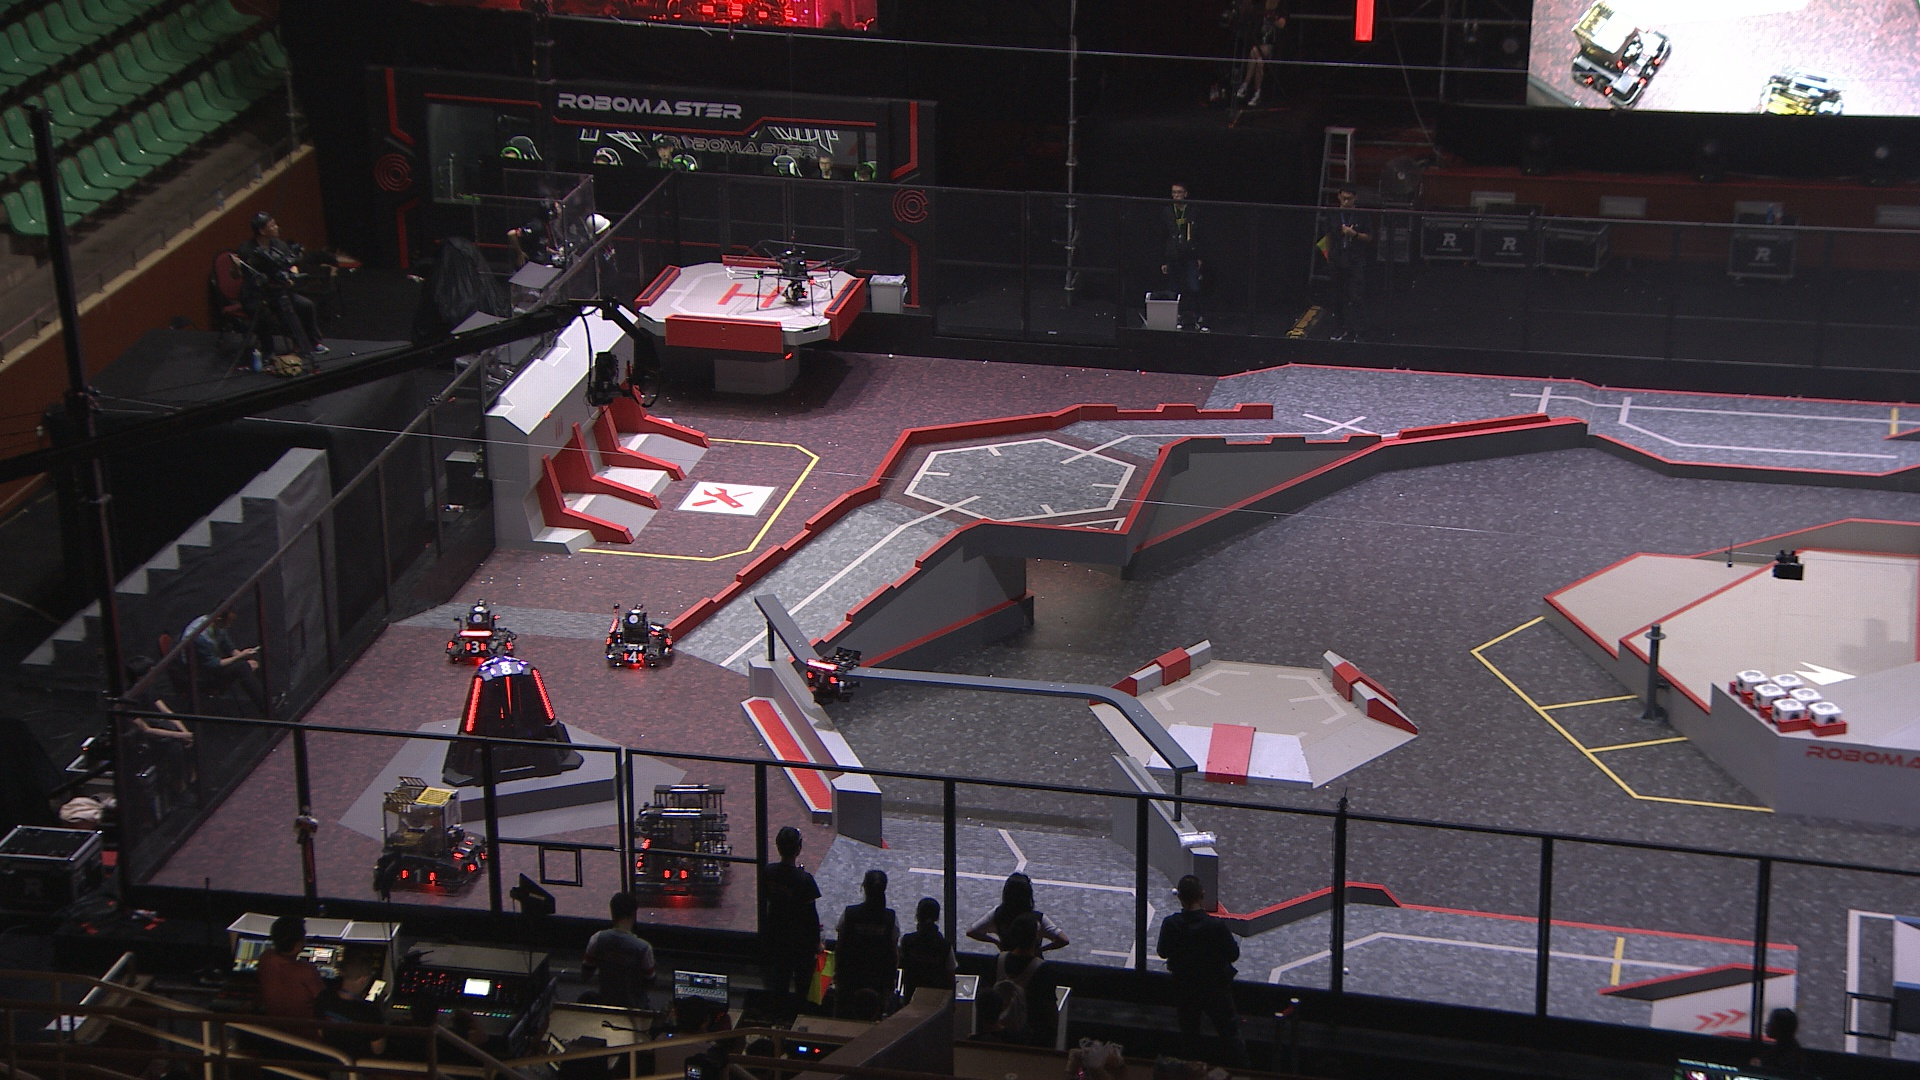armor: (531, 665, 555, 723), (462, 675, 483, 735), (401, 866, 436, 884), (807, 669, 837, 687), (662, 865, 688, 885), (467, 851, 487, 873), (502, 678, 513, 713), (454, 840, 472, 858), (465, 640, 487, 655), (622, 651, 645, 666), (647, 618, 662, 638), (504, 633, 516, 655)
base: (434, 651, 584, 789)
car: (624, 779, 736, 909), (372, 773, 489, 895), (603, 600, 676, 673), (446, 599, 518, 669)
ignore: (1563, 0, 1675, 105), (1753, 69, 1844, 127), (489, 659, 522, 680)
watcher: (803, 641, 858, 708)
